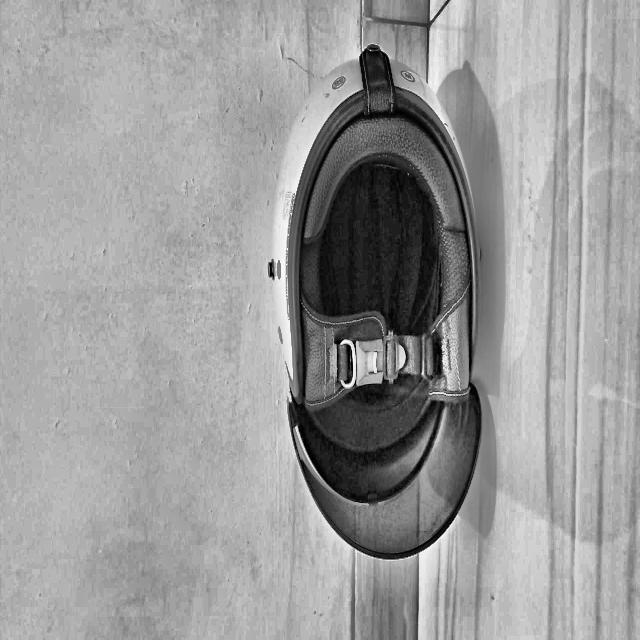Helmet: (43, 452, 355, 640)
